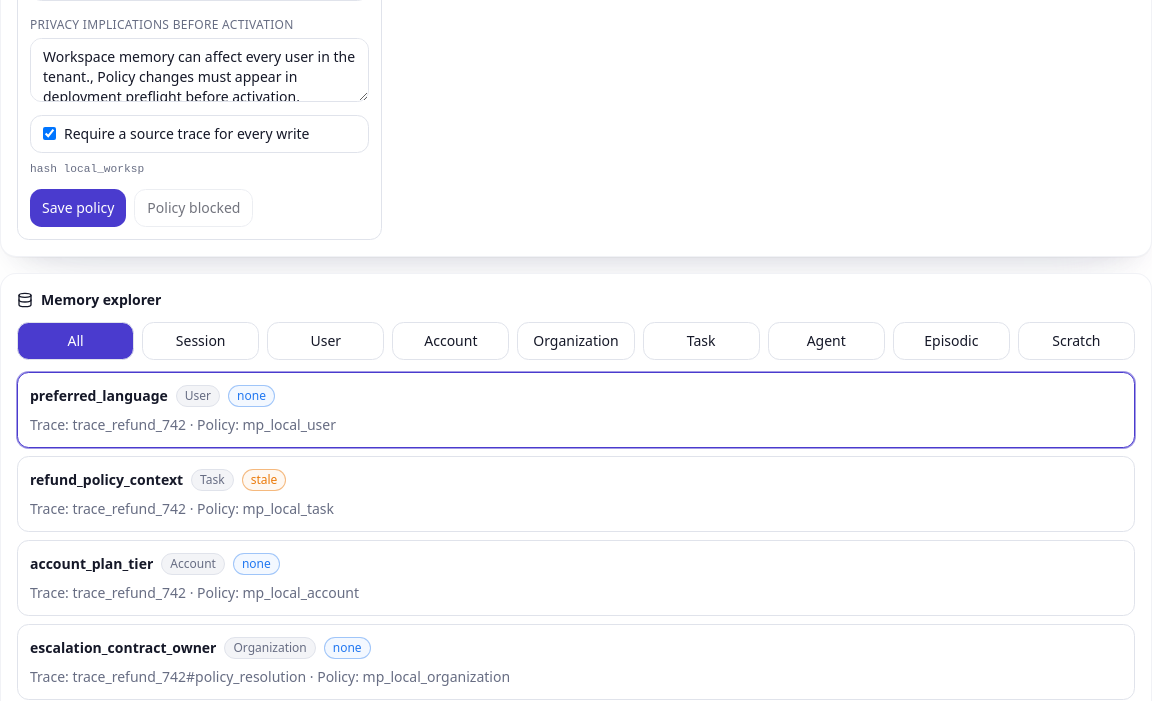
Scenario: MemoryStudio › filters across enterprise and runtime memory scopes
The width and height of the screenshot is (1152, 701).
(page scrolled)
Expected: the tab with test id "memory-scope-organization" is shown, [517, 322, 634, 360]
Expected: the tab with test id "memory-scope-task" is shown, [642, 322, 760, 360]
Step 1. Click the tab with test id "memory-scope-account" → (451, 341), box [392, 322, 509, 360]
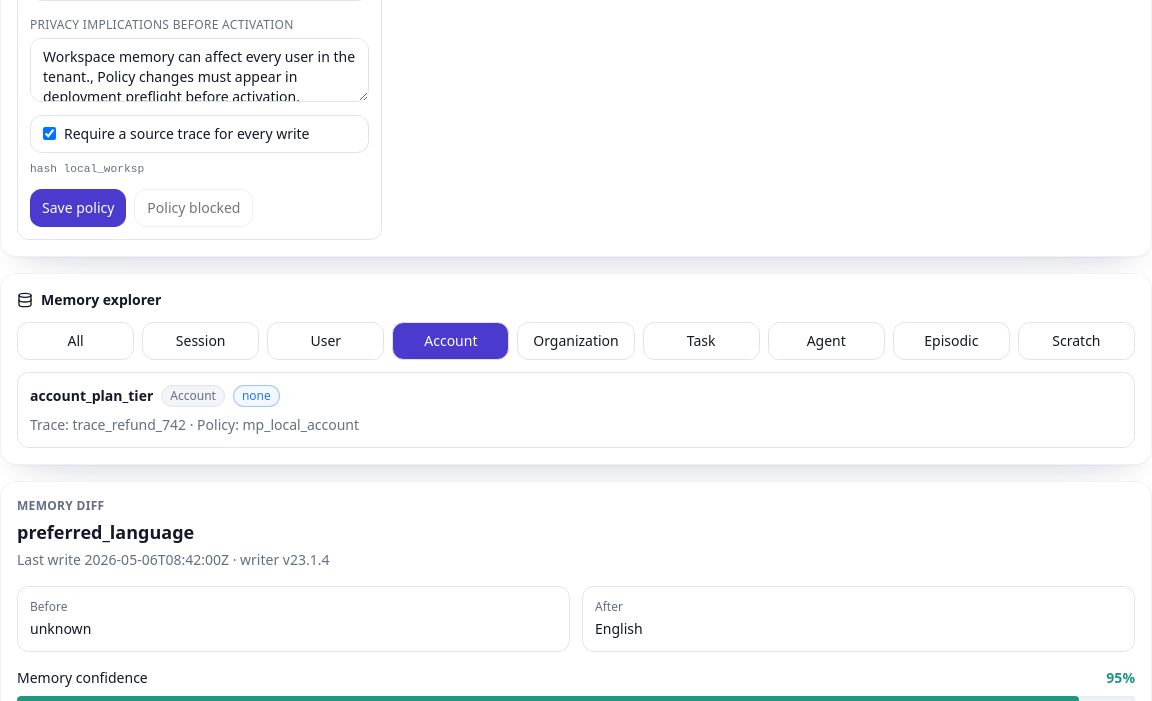
Expected: the element with test id "memory-studio-explorer" shows "account_plan_tier", [17, 372, 1135, 448]
Expected: the element with test id "memory-studio-explorer" no longer shows "active_order_lookup", [0, 273, 1151, 465]
Step 2. Click the tab with test id "memory-scope-organization" → (576, 341), box [517, 322, 634, 360]
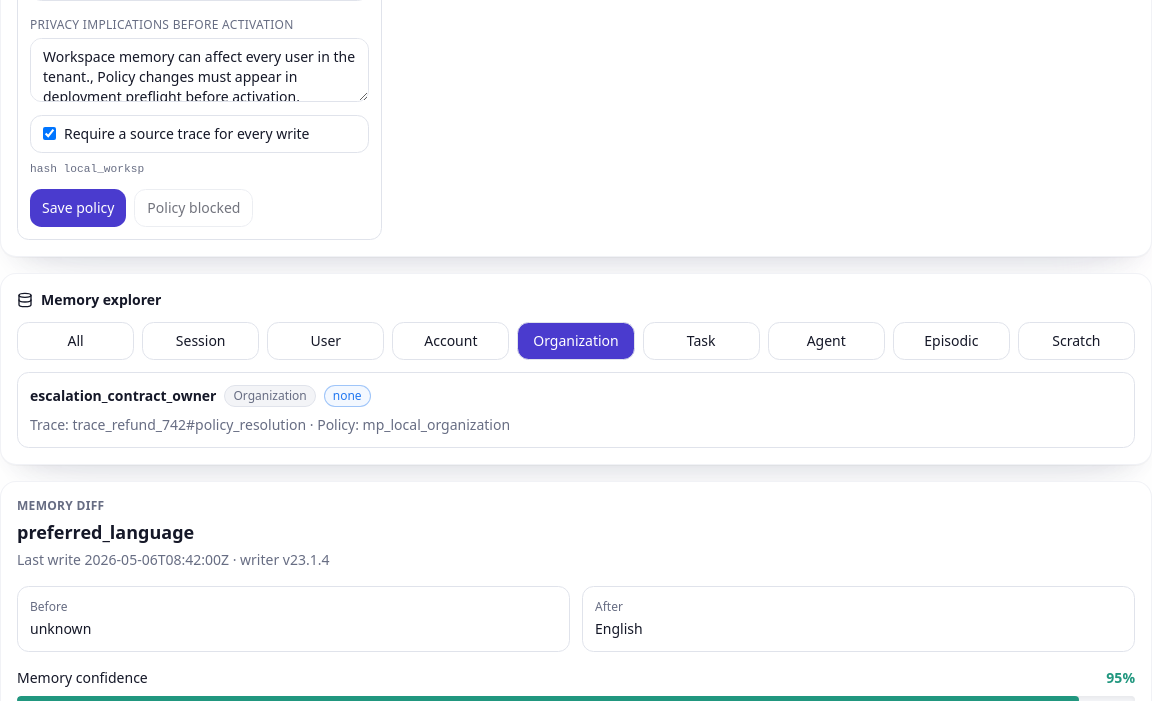
Expected: the element with test id "memory-studio-explorer" shows "escalation_contract_owner", [17, 372, 1135, 448]
Step 3. Click the tab with test id "memory-scope-task" → (701, 341), box [642, 322, 760, 360]
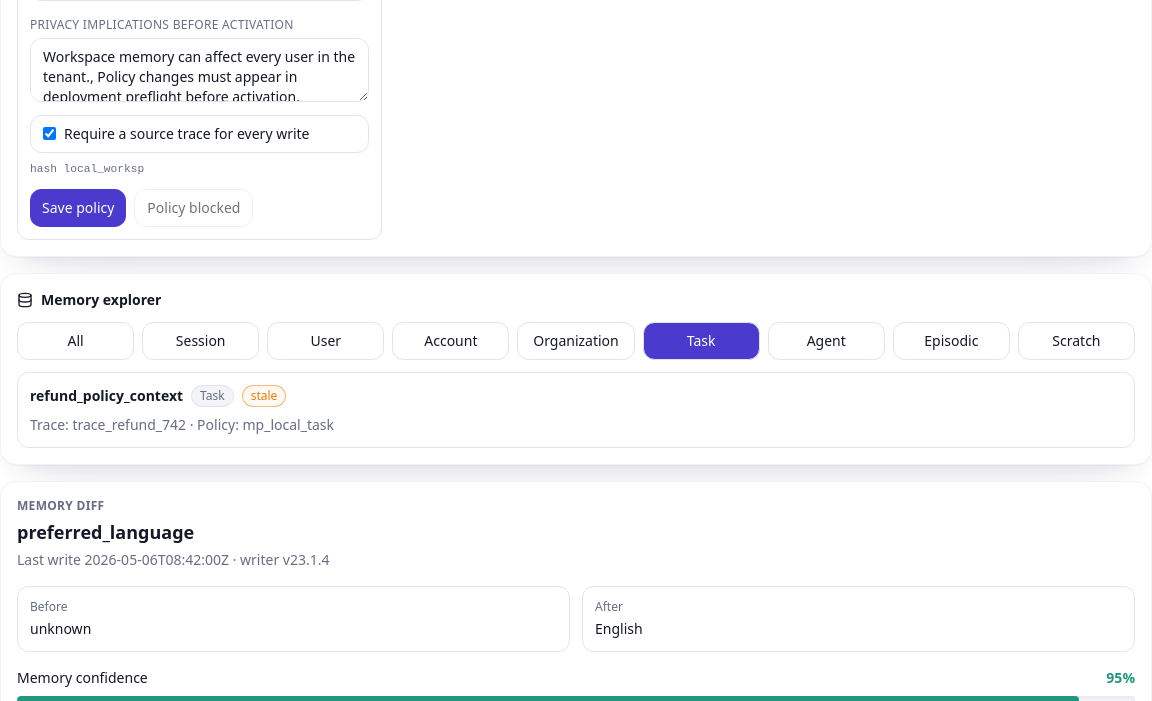
Expected: the element with test id "memory-studio-explorer" does not show "active_order_lookup", [0, 273, 1151, 465]
Expected: the element with test id "memory-studio-explorer" shows "refund_policy_context", [17, 372, 1135, 448]
Step 4. Click the tab with test id "memory-scope-scratch" → (1076, 341), box [1018, 322, 1135, 360]
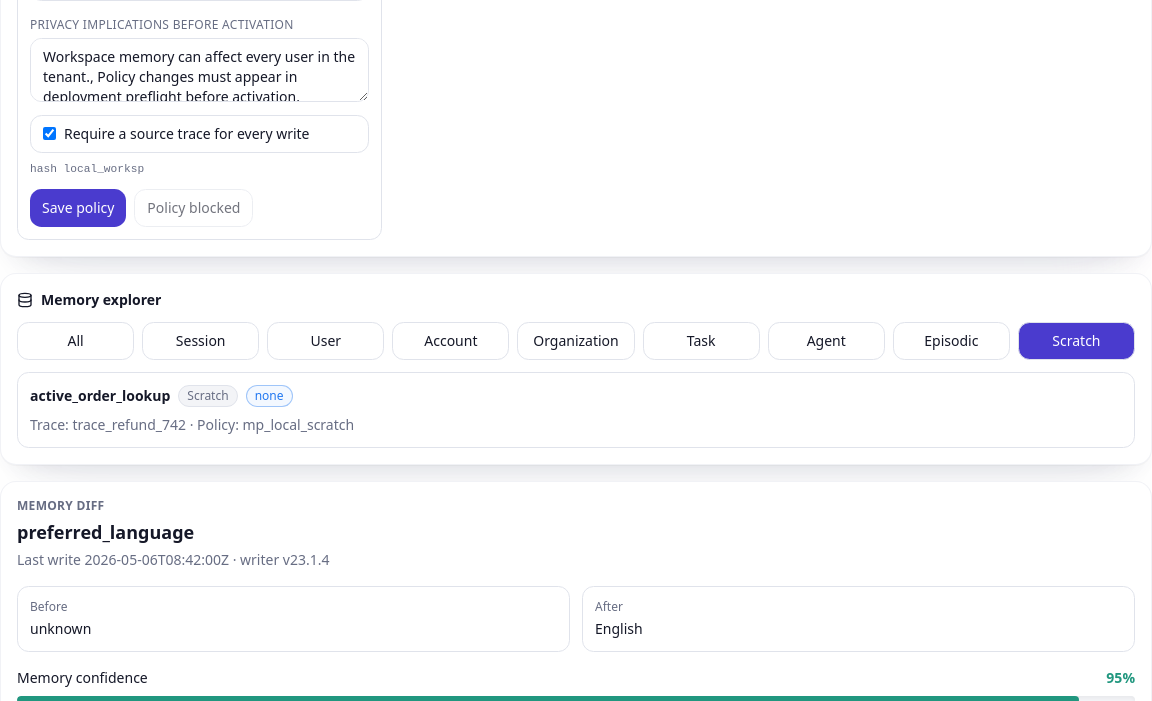
Expected: the element with test id "memory-studio-explorer" shows "active_order_lookup", [17, 372, 1135, 448]
Step 5. Click the tab with test id "memory-scope-agent" → (826, 341), box [768, 322, 885, 360]
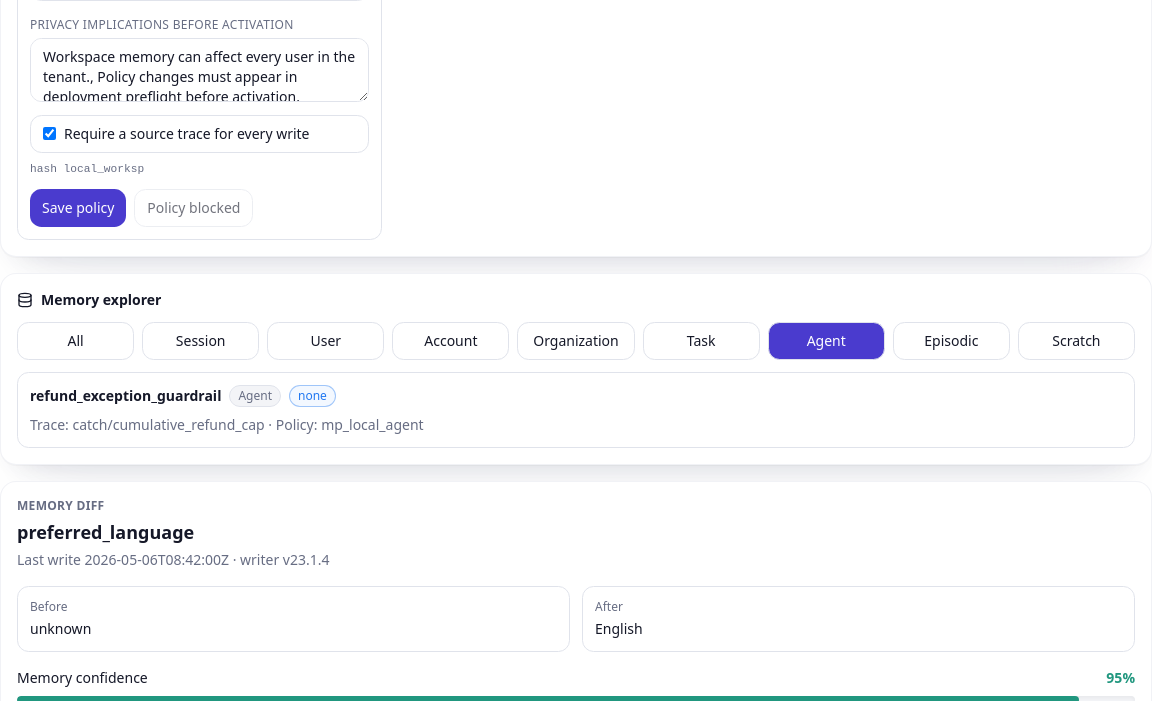
Expected: the element with test id "memory-studio-explorer" shows "refund_exception_guardrail", [17, 372, 1135, 448]
